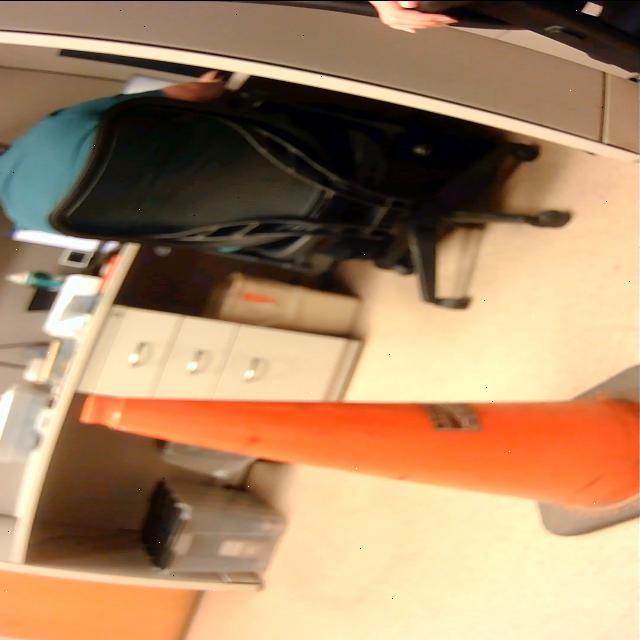traffic cone: (52, 358, 640, 544)
